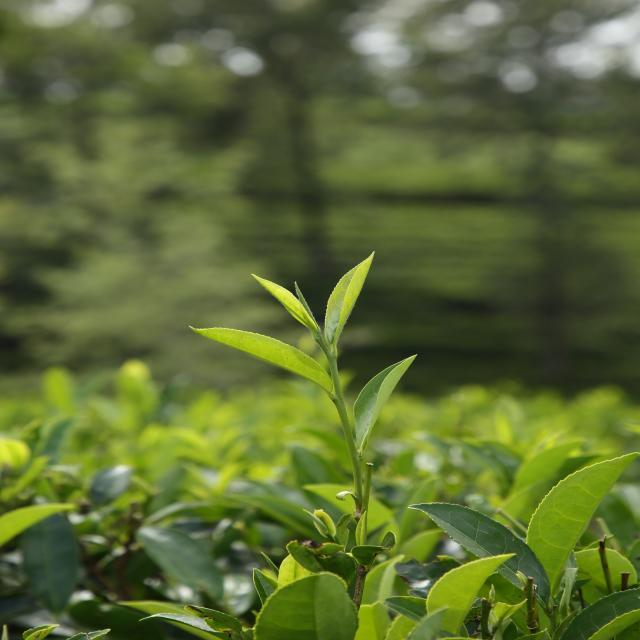Stem: (334, 397, 343, 404)
